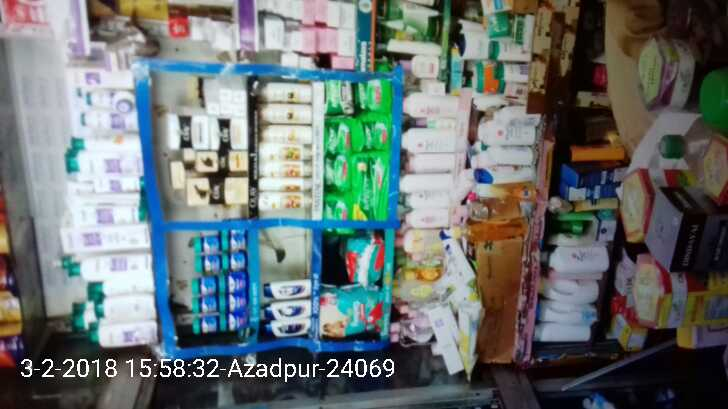vicks: (187, 227, 249, 337)
